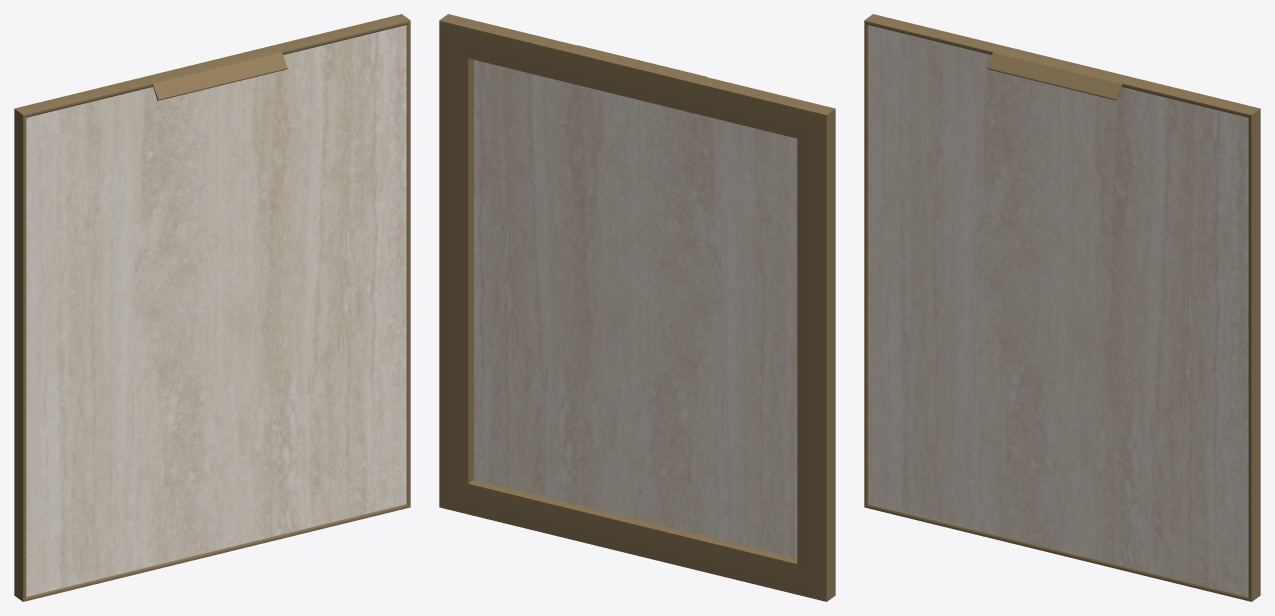
File: FDP-597-717-15.glb
3 renders of one model, left to right at view 1: azimuth 30°, elevation 25°; view 2: azimuth 150°, elevation 25°; view 3: azimuth 330°, elevation 25°, orthographic.
Parts seen in each view (by area): view 1: Object_node, Extrusion_node_4, ExtrSplGeo, Extrusion_node, Extrusion_node_2, Extrusion_node_3; view 2: Object_node, Extrusion_node_4, Extrusion_node_2, Extrusion_node_3, Extrusion_node, ExtrSplGeo; view 3: Object_node, Extrusion_node_2, ExtrSplGeo, Extrusion_node, Extrusion_node_4, Extrusion_node_3.
Part boxes in pixels (bbox=[...]): Object_node: bbox=[26, 25, 406, 596]; Extrusion_node_4: bbox=[14, 109, 26, 601]; ExtrSplGeo: bbox=[144, 45, 287, 100]; Extrusion_node: bbox=[14, 14, 410, 117]; Extrusion_node_2: bbox=[406, 21, 410, 506]; Extrusion_node_3: bbox=[23, 504, 410, 601]; Object_node: bbox=[474, 60, 797, 558]; Extrusion_node_4: bbox=[797, 109, 835, 601]; Extrusion_node_2: bbox=[439, 21, 473, 506]; Extrusion_node_3: bbox=[439, 480, 826, 601]; Extrusion_node: bbox=[439, 14, 835, 138]; ExtrSplGeo: bbox=[568, 45, 706, 114]; Object_node: bbox=[868, 25, 1248, 596]; Extrusion_node_2: bbox=[1248, 109, 1260, 601]; ExtrSplGeo: bbox=[987, 45, 1130, 100]; Extrusion_node: bbox=[864, 14, 1260, 117]; Extrusion_node_4: bbox=[864, 21, 868, 506]; Extrusion_node_3: bbox=[864, 504, 1251, 601].
Size of the model in its own units: 0.6 by 0.72 by 0.04.
2 materials, 1 textured.
